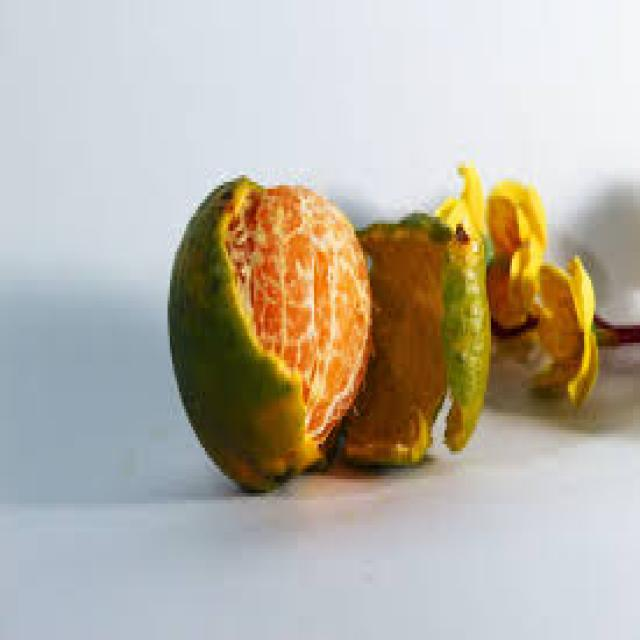Organik: (166, 165, 376, 504), (344, 175, 484, 471), (478, 172, 640, 397)
